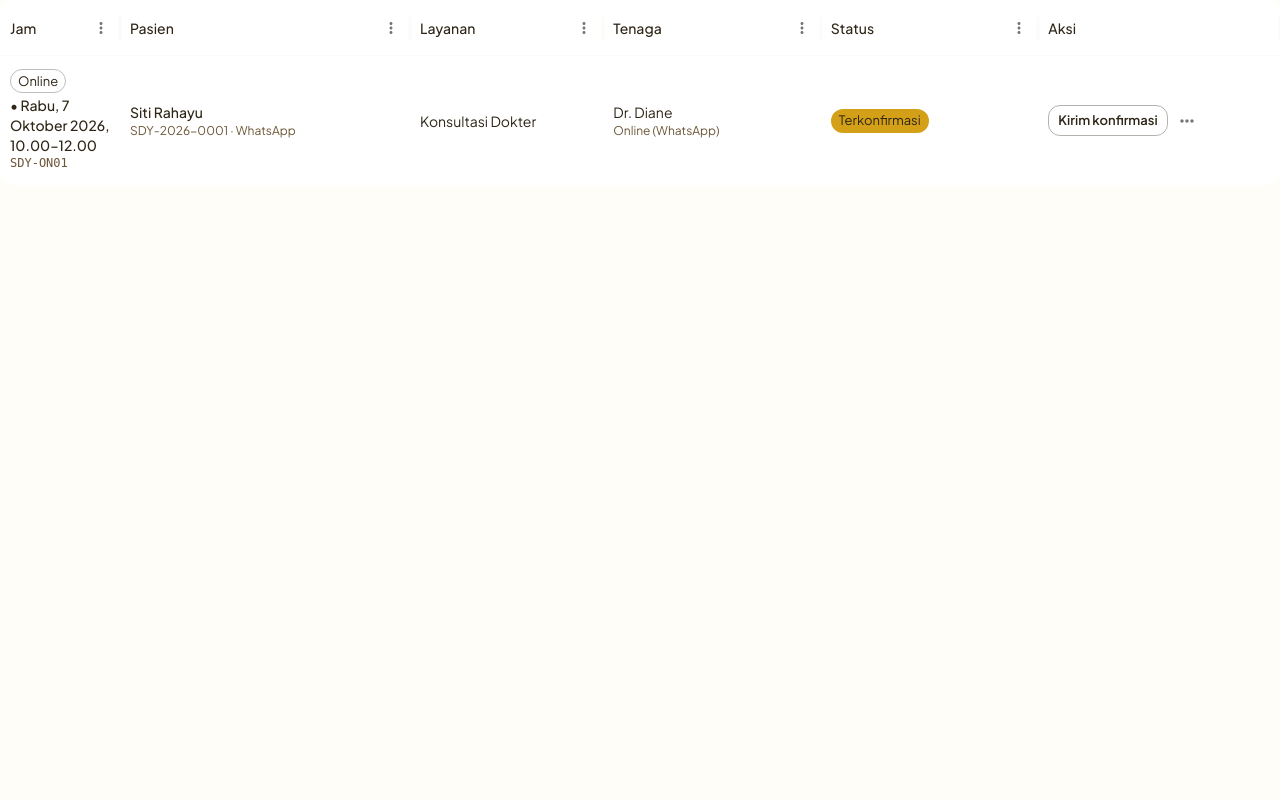
it: AppointmentTable booking online › Ubah waktu luang dari menu membuka dialog untuk booking itu
The image size is (1280, 800).
Click the button named "Aksi lain SDY-ON01".
click(1187, 121)  # box [1172, 106, 1202, 136]
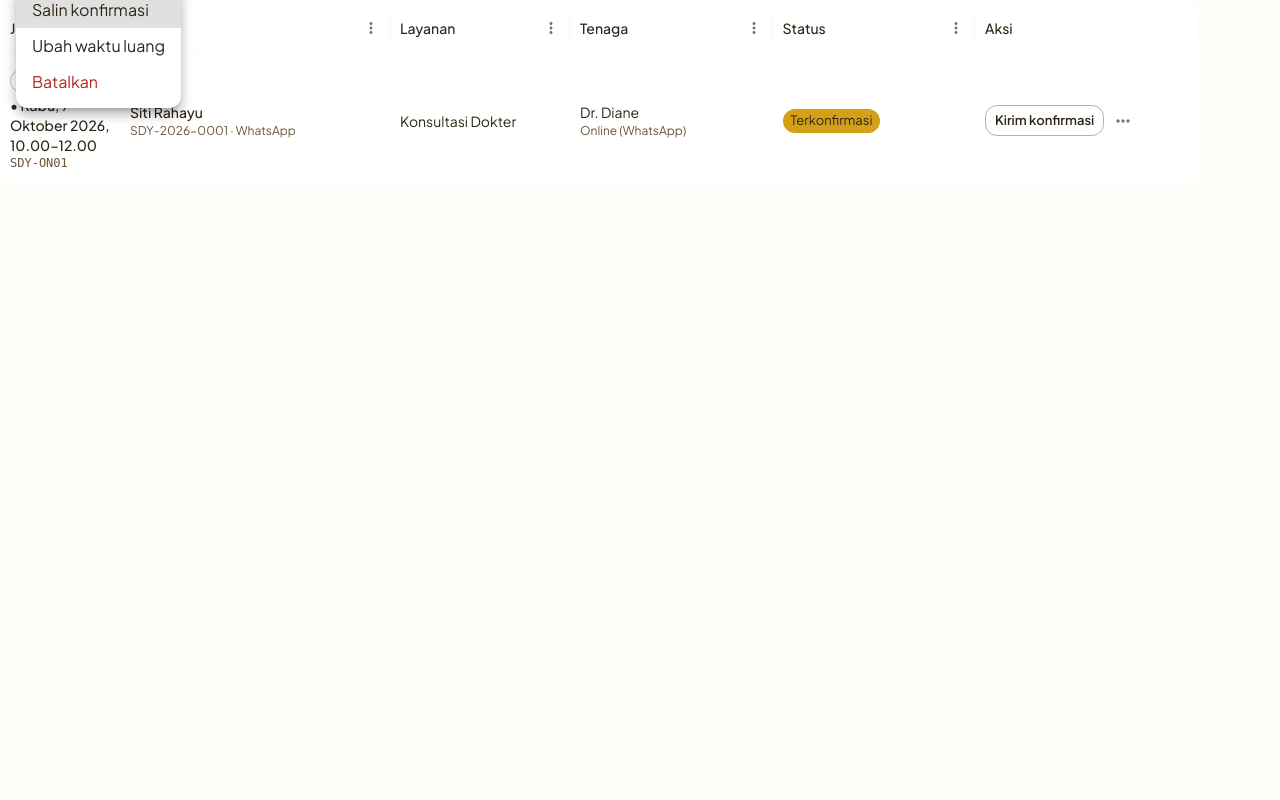
Click the menu item "Ubah waktu luang".
click(99, 46)  # box [32, 35, 165, 56]
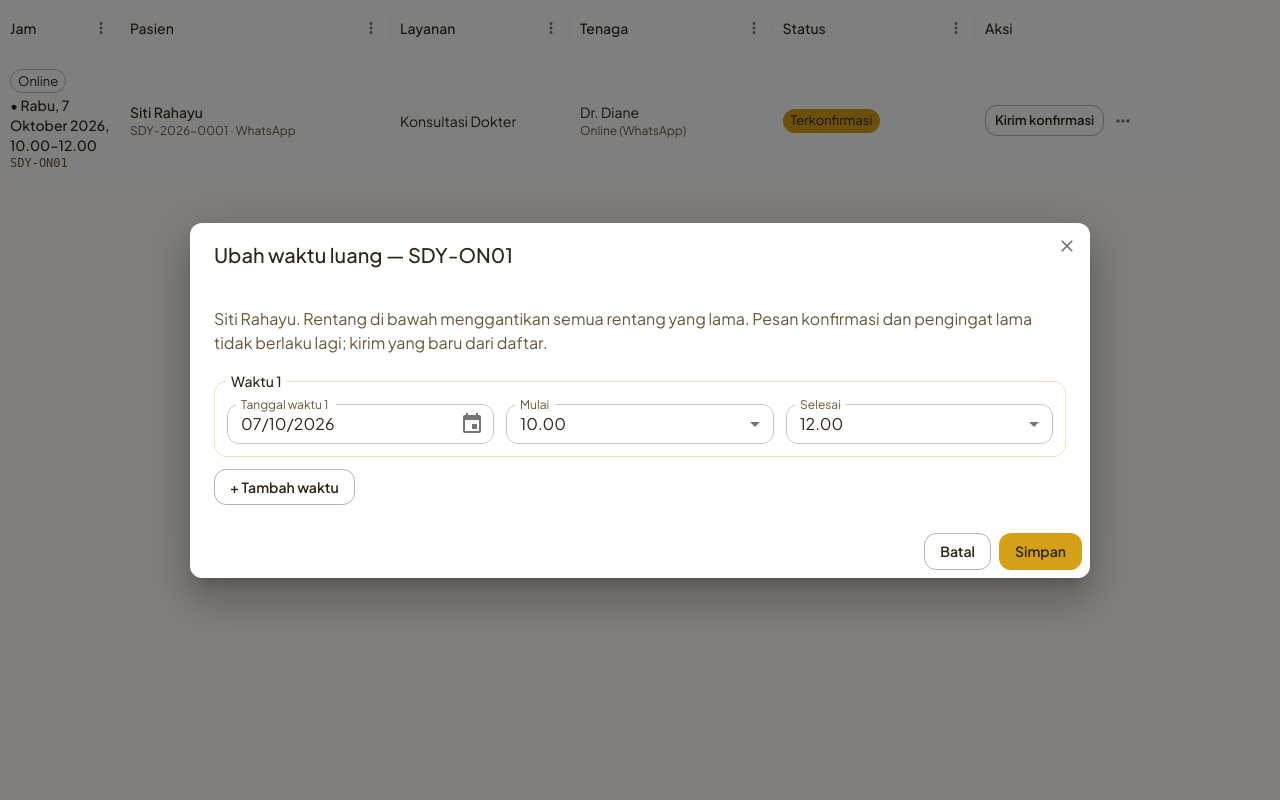
Now the dialog "Ubah waktu luang — SDY-ON01" is shown, box [190, 222, 1090, 578]
